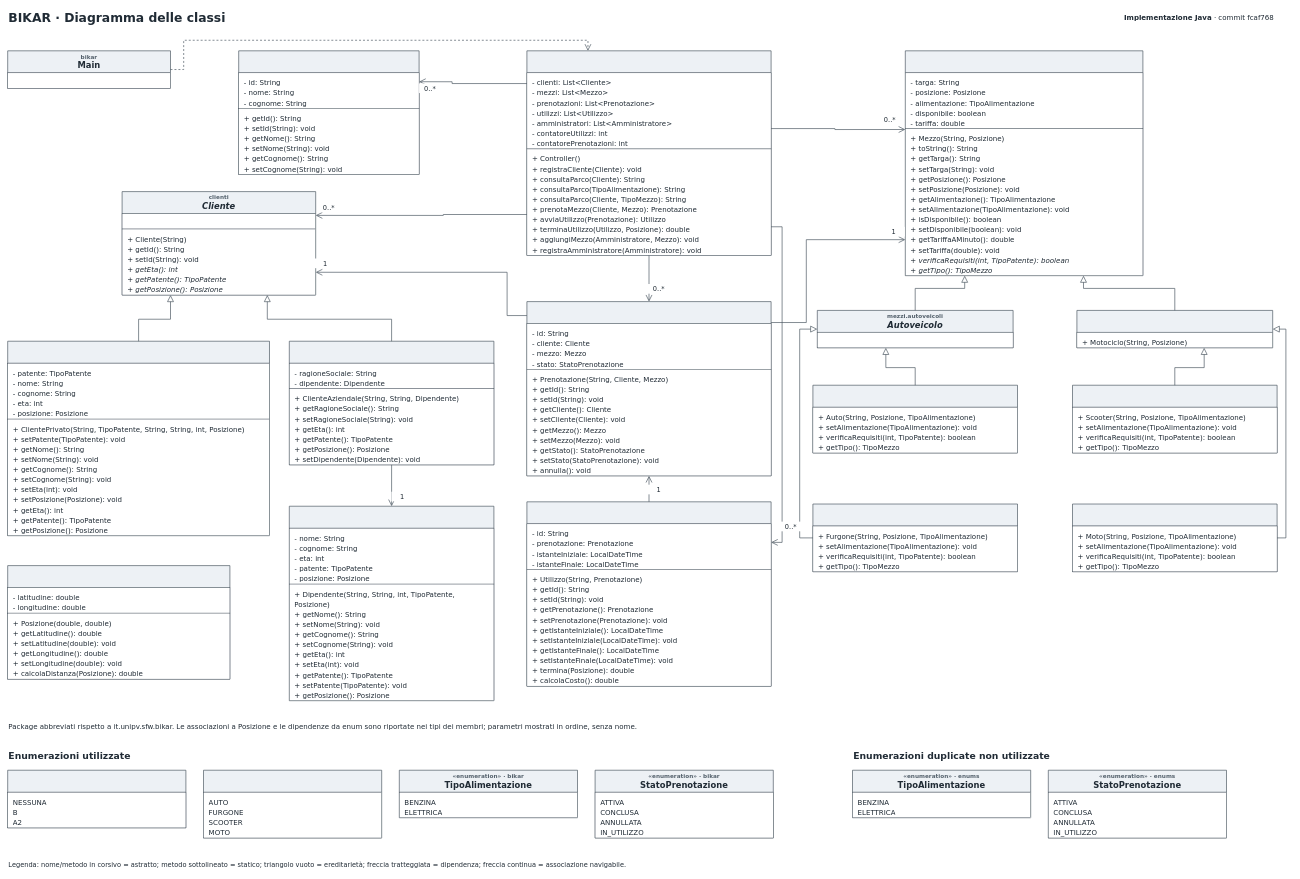
Some shapes in this 1300 by 879 pixel diagram are drawn without their labels. The box of each missing label's shape, as (x1, y1, x2, y2) in pixels:
+ Autoveicolo(String, Posizione): (817, 332, 1013, 348)
+ main(String[]): void: (7, 72, 170, 88)
- id: String: (122, 213, 316, 229)
bikar Amministratore: (238, 50, 419, 175)
bikar Controller: (526, 50, 771, 256)
bikar Posizione: (7, 565, 230, 679)
bikar Prenotazione: (526, 301, 771, 476)
bikar Utilizzo: (526, 501, 771, 686)
clienti ClienteAziendale: (289, 341, 494, 465)
clienti ClientePrivato: (7, 341, 270, 536)
clienti Dipendente: (289, 506, 494, 701)
mezzi Mezzo: (905, 50, 1143, 276)
mezzi.autoveicoli Auto: (812, 385, 1018, 453)
mezzi.autoveicoli Furgone: (812, 503, 1018, 572)
mezzi.motocicli Moto: (1072, 503, 1277, 572)
mezzi.motocicli Motociclo: (1076, 310, 1273, 348)
mezzi.motocicli Scooter: (1072, 385, 1277, 453)
«enumeration» · enums TipoMezzo: (203, 770, 382, 838)
«enumeration» · enums TipoPatente: (7, 770, 186, 828)
